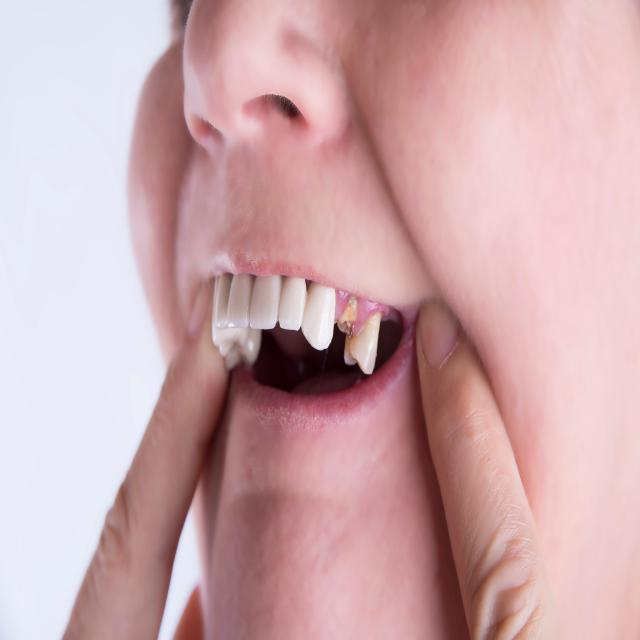Caries: (337, 295, 358, 339)
Tooth: (301, 281, 336, 351), (344, 312, 381, 375), (250, 275, 284, 330), (278, 276, 307, 331), (227, 274, 256, 328), (214, 273, 233, 330)
